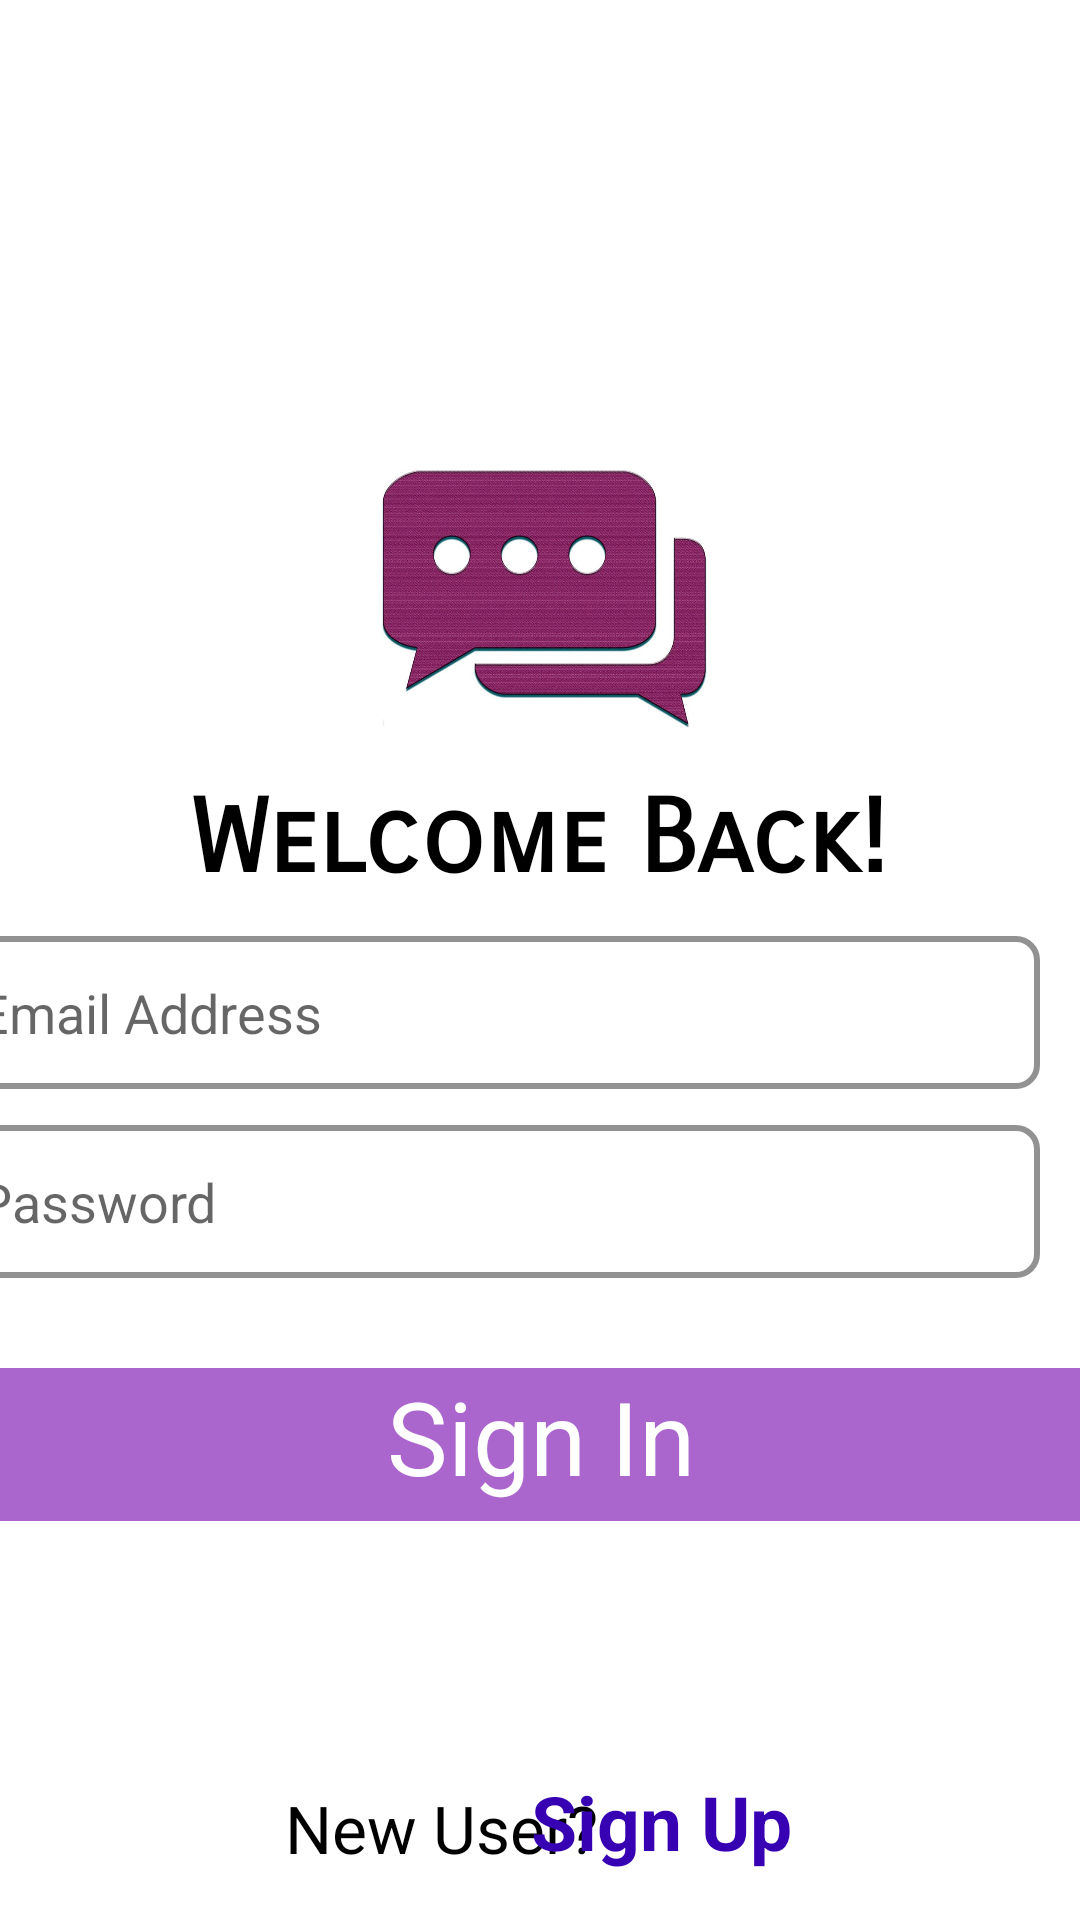

Icons on this 1080 x 1920 Android screen, each with its box as [x1,y1,x2,y2]:
chatsy: [382,470,707,727]
